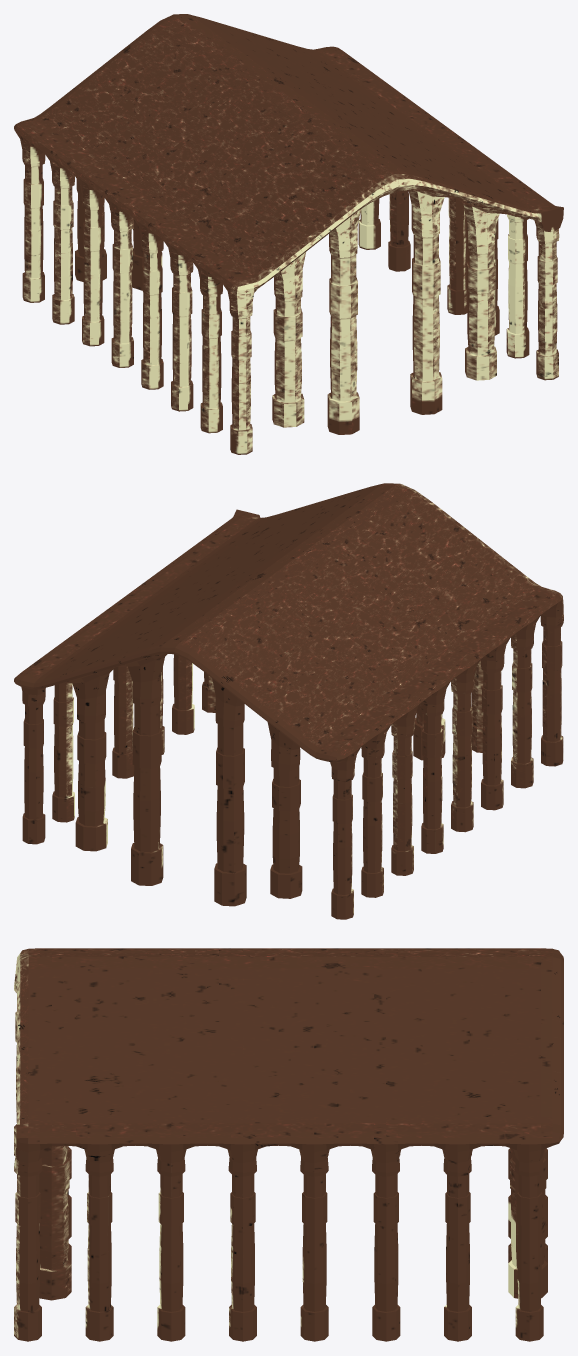
The model's file is Hall.glb.
3 views of the same model, one above another, from view 1: azimuth 30°, elevation 25°; view 2: azimuth 150°, elevation 25°; view 3: azimuth 270°, elevation 25° (orthographic). The views are drawn at different scales.
Parts seen in each view (by area): view 1: Hall; view 2: Hall; view 3: Hall.
Part boxes in pixels (<box>): Hall: <box>14,14,563,454</box>; Hall: <box>14,483,563,919</box>; Hall: <box>14,948,563,1341</box>.
Bounding box in the file's own units: 70.78 × 51.74 × 84.91.
1 material, 1 textured.
